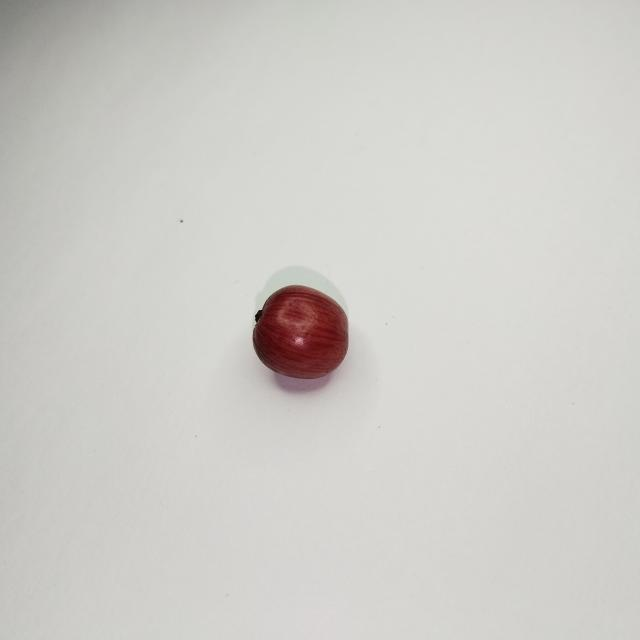Sano: (253, 286, 347, 378)
